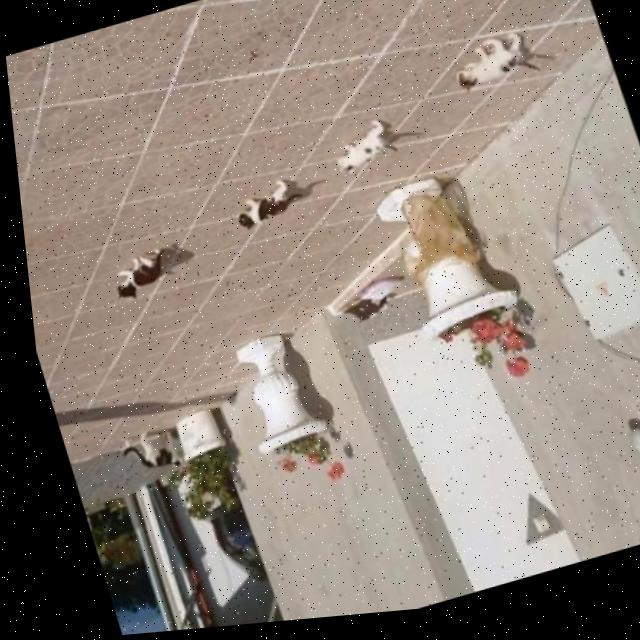Cats: (433, 25, 559, 123), (202, 167, 330, 262), (86, 231, 188, 323), (315, 114, 416, 198), (100, 424, 182, 495)
